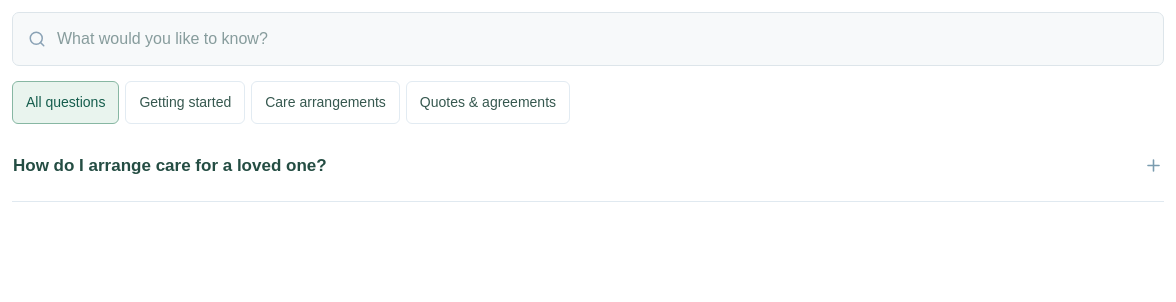
Test: public browsing and validation › uses labeled, keyboard-accessible FAQ disclosures
What coordinates should you click on to do the following:
click the button "How do I arrange care for a loved one?"
I would click on:
 (170, 166)
Its box is [12, 130, 1164, 201].
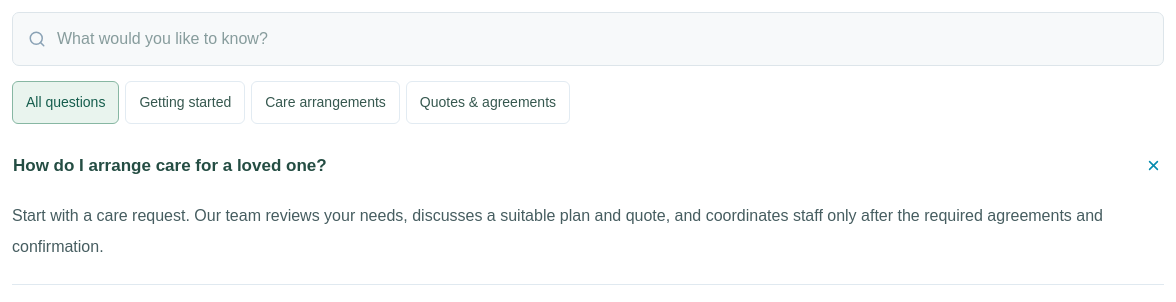
Result: the button "How do I arrange care for a loved one?" is expanded at [12, 130, 1164, 201]
Result: the element named "How do I arrange care for a loved one?" is shown at [12, 207, 1103, 255]
